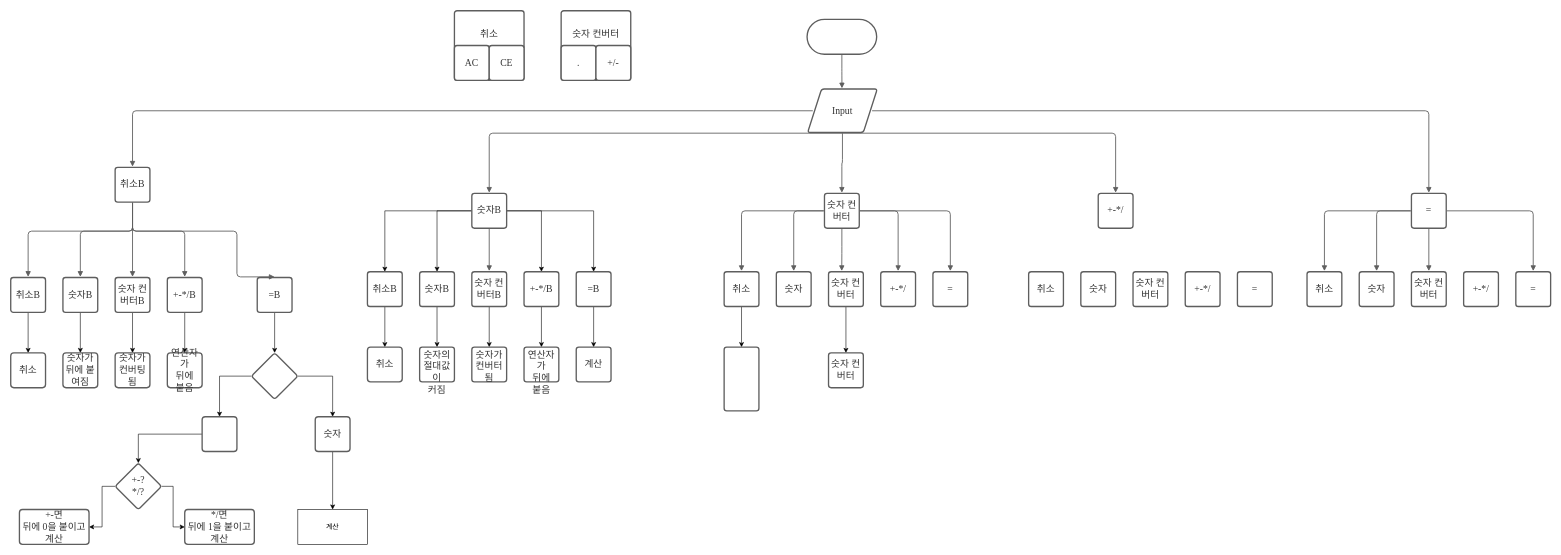
Image size: 1561x555. Some labels were removed from this diagram. The box of each missing label's shape, as (x1, y1, x2, y2) in pixels:
APP START: (806, 19, 877, 55)
뒤에 남은 것: (251, 352, 298, 400)
연산자: (201, 416, 237, 452)
컨버터를 취소? 입력을 바꿀 것인지?: (723, 346, 759, 411)
